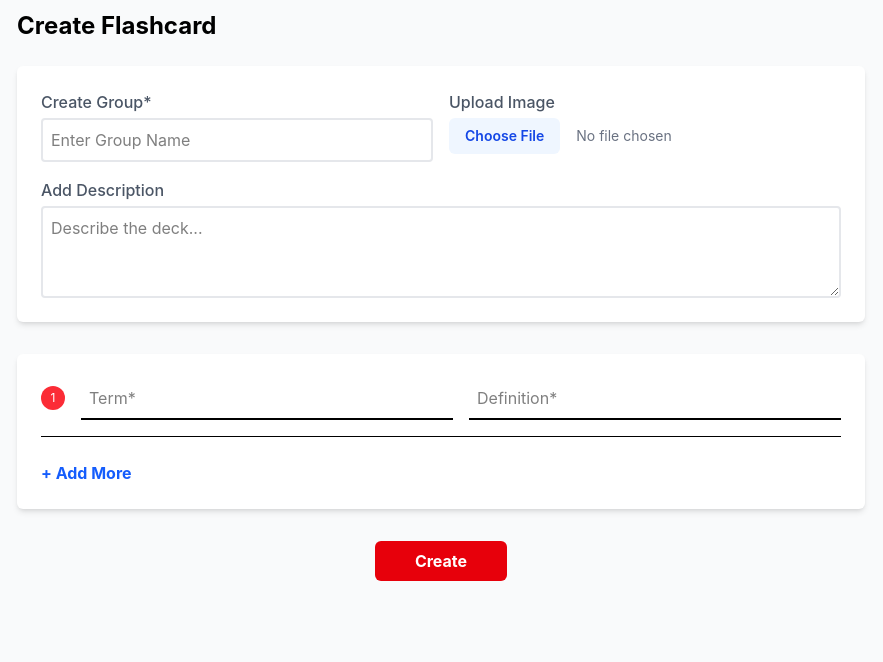
Test: CreateFlashcard Component › shows validation errors on empty submit
Click the button "Create" at (441, 561), box [375,541,507,581]
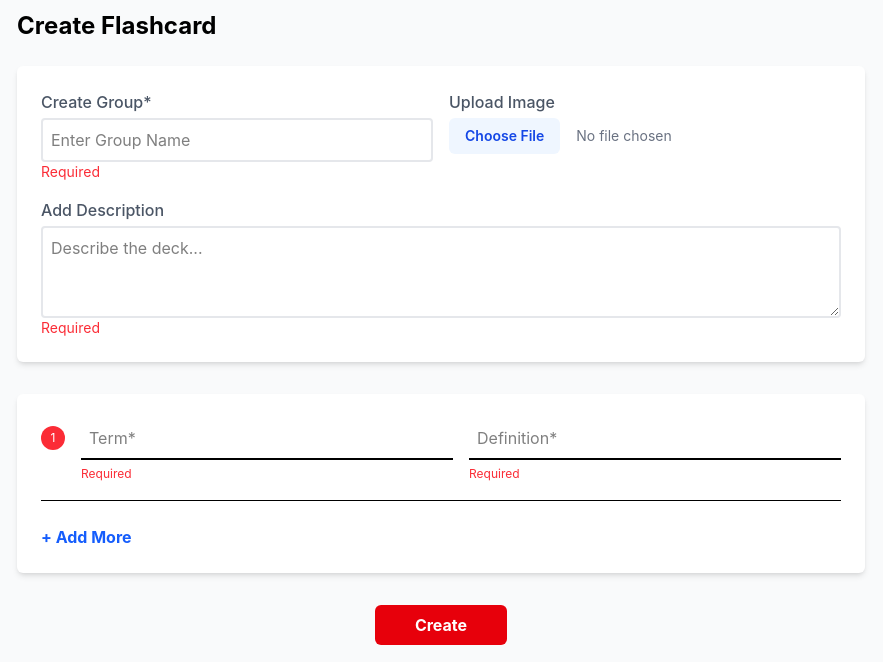
Check: the text "Required" below "Create Group*" is shown, box [41,163,100,180]
